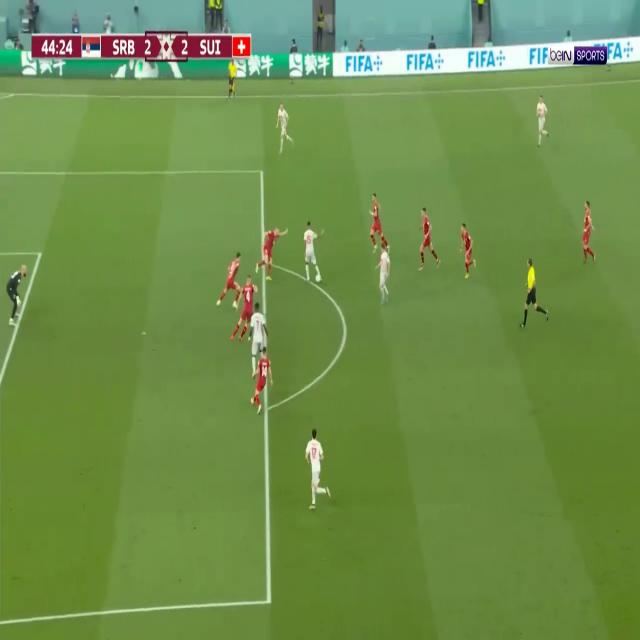Ball: (315, 275, 320, 282)
GoalKeeper: (6, 263, 28, 328)
Referee: (518, 255, 550, 332), (227, 60, 238, 104)
TEAM 1: (230, 275, 258, 342), (256, 227, 290, 282), (250, 347, 274, 415), (216, 252, 242, 309), (368, 193, 391, 255), (535, 94, 550, 149)
TEAM 2: (305, 428, 331, 510), (302, 220, 324, 292), (418, 204, 441, 272), (249, 302, 269, 378), (580, 198, 598, 268), (459, 222, 478, 280), (276, 102, 294, 153), (378, 243, 392, 305)
